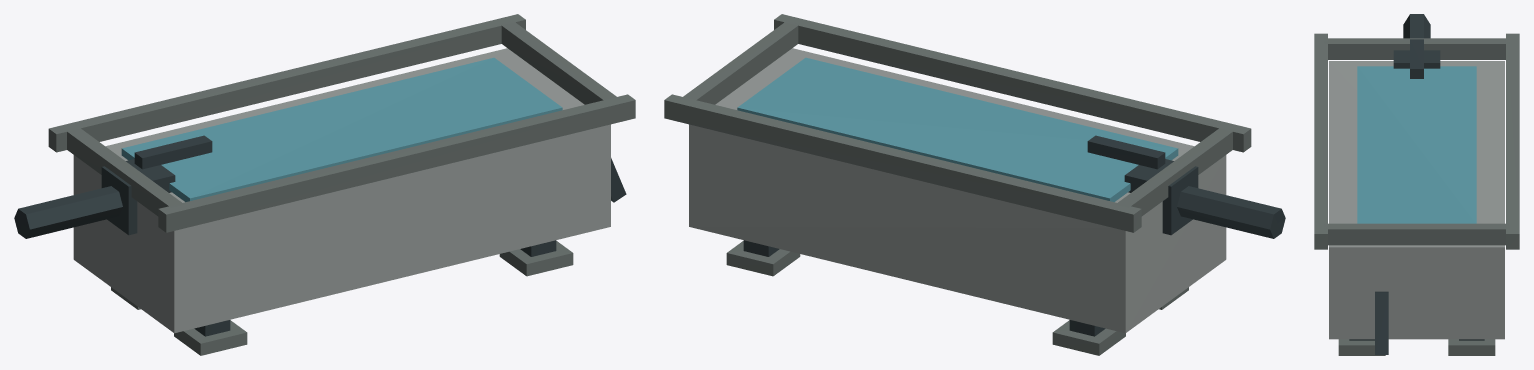
The model's file is Water-Trough.glb.
3 renders of one model, left to right at view 1: azimuth 30°, elevation 25°; view 2: azimuth 150°, elevation 25°; view 3: azimuth 270°, elevation 25°, orthographic. The views are drawn at different scales.
Visible parts, largest first — view 1: wind-pump-static-water-trough-sealed-basin, wind-pump-static-water-trough-reinforced-rim, wind-pump-static-water-trough-still-blue-water, wind-pump-static-water-trough-dark-service; view 2: wind-pump-static-water-trough-sealed-basin, wind-pump-static-water-trough-reinforced-rim, wind-pump-static-water-trough-still-blue-water, wind-pump-static-water-trough-dark-service; view 3: wind-pump-static-water-trough-sealed-basin, wind-pump-static-water-trough-still-blue-water, wind-pump-static-water-trough-reinforced-rim, wind-pump-static-water-trough-dark-service.
Part boxes in pixels (x1=…): wind-pump-static-water-trough-sealed-basin: x1=73, y1=48, x2=610, y2=333; wind-pump-static-water-trough-reinforced-rim: x1=48, y1=14, x2=635, y2=355; wind-pump-static-water-trough-still-blue-water: x1=121, y1=57, x2=562, y2=202; wind-pump-static-water-trough-dark-service: x1=14, y1=135, x2=626, y2=336; wind-pump-static-water-trough-sealed-basin: x1=689, y1=48, x2=1226, y2=333; wind-pump-static-water-trough-reinforced-rim: x1=664, y1=14, x2=1251, y2=355; wind-pump-static-water-trough-still-blue-water: x1=737, y1=57, x2=1178, y2=202; wind-pump-static-water-trough-dark-service: x1=743, y1=135, x2=1285, y2=336; wind-pump-static-water-trough-sealed-basin: x1=1329, y1=61, x2=1504, y2=339; wind-pump-static-water-trough-still-blue-water: x1=1357, y1=66, x2=1476, y2=223; wind-pump-static-water-trough-reinforced-rim: x1=1314, y1=33, x2=1519, y2=355; wind-pump-static-water-trough-dark-service: x1=1349, y1=14, x2=1484, y2=354.
Size of the model in its own units: 2.99 by 0.8475 by 1.05.
